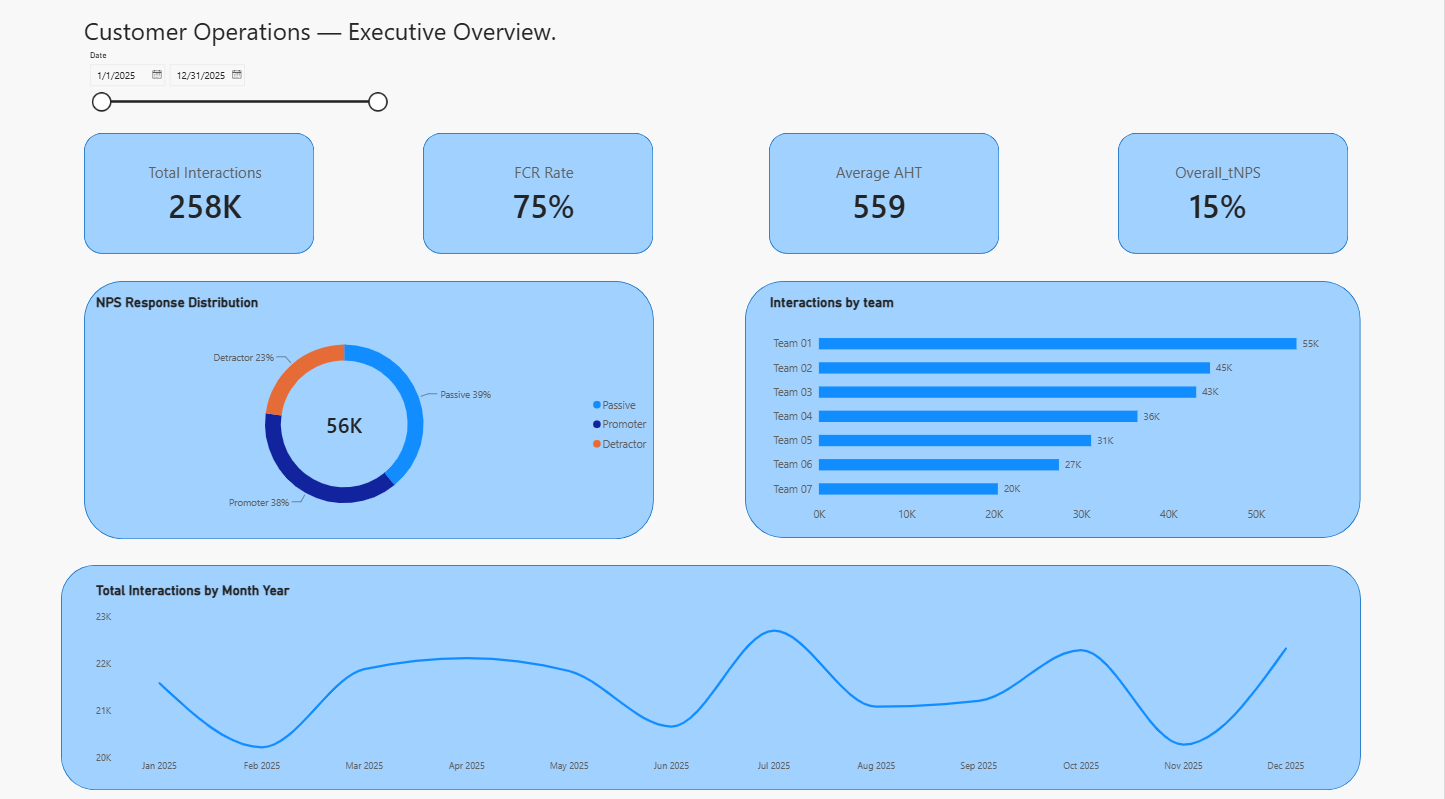

Layout of this report page (visuals, bound fields, positions):
{"tool":"powerbi","page":{"name":"Executive Overview","canvas":[1920,1080],"ordinal":0},"visuals":[{"type":"group","id":"g1","title":"Group 1","box":[81.5,184.7,1728.5,874.5],"z":0},{"type":"cardVisual","fields":{"Data":["MART_ADVISOR_PERFORMANCE.Total Interactions"]},"box":[112.3,189.7,322.4,154.7],"z":1000},{"type":"cardVisual","fields":{"Data":["MART_ADVISOR_PERFORMANCE.Overall_NPS_cal"]},"box":[1459,189.7,322.4,154.7],"z":2000},{"type":"cardVisual","fields":{"Data":["MART_ADVISOR_PERFORMANCE.Average AHT"]},"box":[1008.1,189.7,322.4,154.7],"z":3000},{"type":"cardVisual","fields":{"Data":["MART_ADVISOR_PERFORMANCE.FCR Rate"]},"box":[563.2,189.7,322.4,154.7],"z":4000},{"type":"slicer","fields":{"Values":["Dim_Date.Date"]},"box":[112.3,74.4,407.1,100.7],"z":5000},{"type":"lineChart","fields":{"Category":["Dim_Date.Month Year"],"Y":["MART_ADVISOR_PERFORMANCE.Total Interactions"]},"box":[112.3,768.9,1669.1,287.4],"z":6000},{"type":"donutChart","title":"NPS Response Distribution","fields":{"Category":["MART_NPS_PERFORMANCE.NPS_CATEGORY"],"Y":["MART_ADVISOR_PERFORMANCE.Total Surveys"]},"box":[112.3,385.2,773.3,337],"z":7000},{"type":"clusteredBarChart","title":"Interactions by team","fields":{"Category":["MART_ADVISOR_PERFORMANCE.TEAM_NAME"],"Y":["MART_ADVISOR_PERFORMANCE.Total Interactions"]},"box":[1008.1,385.2,773.3,337],"z":8000},{"type":"textbox","box":[112.3,26.3,663.8,58.4],"z":9000},{"type":"shape","box":[111.9,184.7,306.2,160.7],"z":9000,"group":"g1"},{"type":"shape","box":[1487.2,184.7,306.2,160.7],"z":10000,"group":"g1"},{"type":"shape","box":[1023.7,184.7,306.2,160.7],"z":11000,"group":"g1"},{"type":"shape","box":[563.6,184.7,306.2,160.7],"z":12000,"group":"g1"},{"type":"shape","box":[111.9,380.9,757.9,343.4],"z":13000,"group":"g1"},{"type":"shape","box":[991.6,380.9,818.7,341.7],"z":14000,"group":"g1"},{"type":"shape","box":[81.5,759.9,1728.8,299.4],"z":15000,"group":"g1"}]}

Visuals, with their boxes in screenshot pixels (x1, y1, x2, y2), scaled from the page's 1920x1080 canvas onto the 1445x799 screenshot:
"Group 1" group: 61/137/1362/784
cardVisual - MART_ADVISOR_PERFORMANCE.Total Interactions: 85/140/327/255
cardVisual - MART_ADVISOR_PERFORMANCE.Overall_NPS_cal: 1098/140/1341/255
cardVisual - MART_ADVISOR_PERFORMANCE.Average AHT: 759/140/1001/255
cardVisual - MART_ADVISOR_PERFORMANCE.FCR Rate: 424/140/667/255
slicer - Dim_Date.Date: 85/55/391/130
lineChart - Dim_Date.Month Year x MART_ADVISOR_PERFORMANCE.Total Interactions: 85/569/1341/781
"NPS Response Distribution" donutChart: 85/285/667/534
"Interactions by team" clusteredBarChart: 759/285/1341/534
textbox: 85/19/584/63
shape: 84/137/315/256
shape: 1119/137/1350/256
shape: 770/137/1001/256
shape: 424/137/655/256
shape: 84/282/655/536
shape: 746/282/1362/535
shape: 61/562/1362/784
